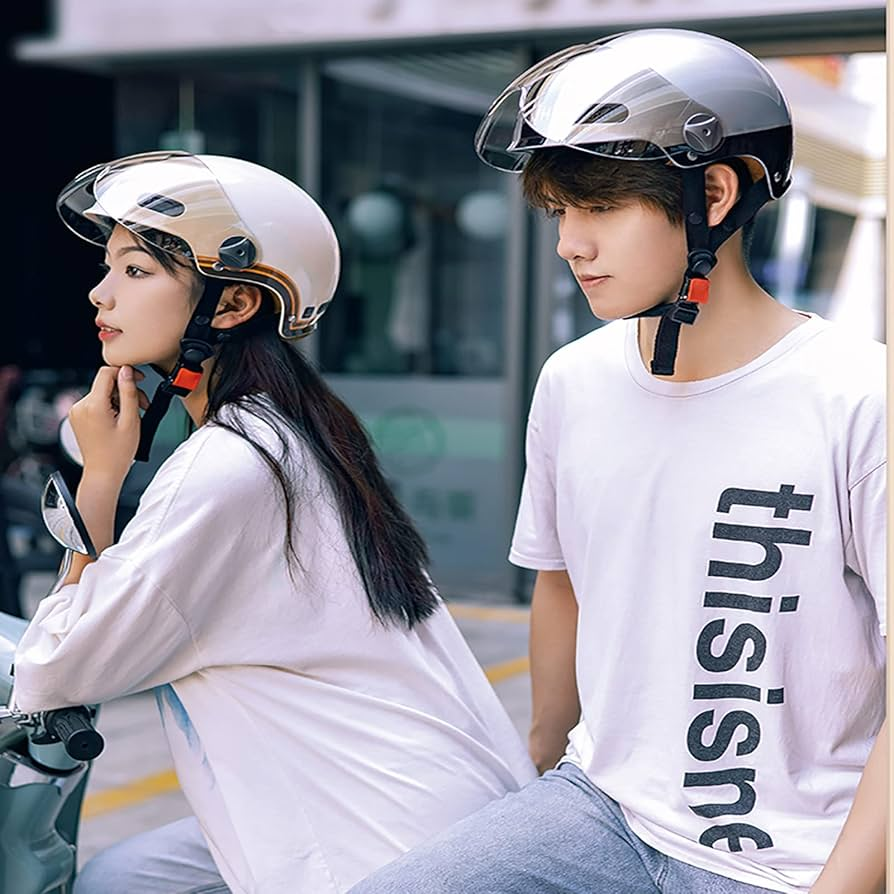helmets: (463, 27, 796, 203), (62, 148, 350, 345)
